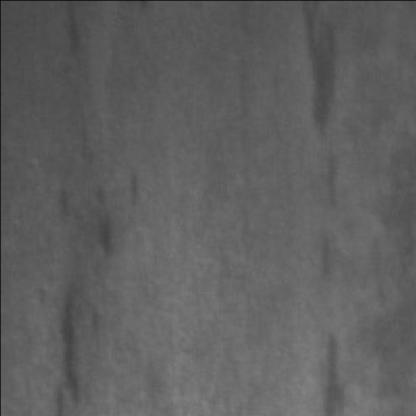inclusion: (56, 166, 144, 410), (304, 0, 352, 139), (318, 148, 354, 276), (318, 312, 356, 414), (58, 0, 87, 62)
